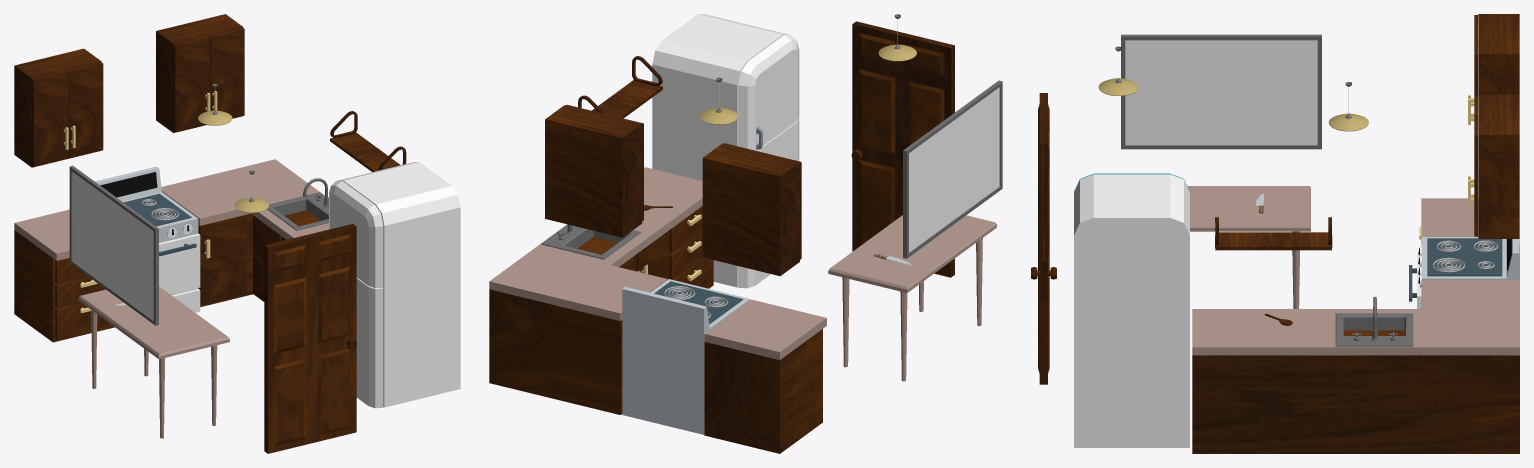
File: NewKitchen.fbx
The picture shows the model from 3 angles, left to right: view 1: azimuth 30°, elevation 25°; view 2: azimuth 150°, elevation 25°; view 3: azimuth 270°, elevation 25°; orthographic projection. The views are drawn at different scales.
Parts seen in each view (by area): view 1: body (×2), 80002FCC41D43B3F54B2518555C85C31, frame (×5), countertop (×2), whiteboard, 81D1700546C724913FC21E9101833FB8, left_door (×2), right_door (×2), oven_side_cabinet, door, polySurface31, polySurface38 (+14 smaller); view 2: frame (×5), body (×2), countertop (×2), 80002FCC41D43B3F54B2518555C85C31, whiteboard, 81D1700546C724913FC21E9101833FB8, polySurface38, tub, AA112 1, range_bottom, sink_right_cabinet, polySurface31 (+7 smaller); view 3: frame (×4), body (×2), whiteboard, countertop (×2), 81D1700546C724913FC21E9101833FB8, 80002FCC41D43B3F54B2518555C85C31, range_bottom, tub, AA112 1, Light, Light2, right_door.
Part boxes in pixels (x1,y1,x2,y2): body (×2): (95,162,460,407); 80002FCC41D43B3F54B2518555C85C31: (264,224,356,453); frame (×5): (14,14,320,342); countertop (×2): (14,159,328,260); whiteboard: (72,172,153,319); 81D1700546C724913FC21E9101833FB8: (78,286,229,438); left_door (×2): (32,36,209,166); right_door (×2): (67,28,244,158); oven_side_cabinet: (199,215,246,305); door: (159,233,200,294); polySurface31: (356,278,368,405); polySurface38: (330,194,368,285); frame (×5): (489,80,1002,453); body (×2): (622,14,789,434); countertop (×2): (489,167,826,359); 80002FCC41D43B3F54B2518555C85C31: (851,21,954,277); whiteboard: (909,87,999,252); 81D1700546C724913FC21E9101833FB8: (828,215,996,381); polySurface38: (755,49,797,150); tub: (541,224,640,259); AA112 1: (592,80,662,118); range_bottom: (654,281,743,324); sink_right_cabinet: (636,231,668,279); polySurface31: (755,122,797,285); frame (×4): (1121,14,1519,453); body (×2): (1074,174,1519,447); whiteboard: (1125,40,1317,145); countertop (×2): (1192,198,1519,355); 81D1700546C724913FC21E9101833FB8: (1187,186,1310,308); 80002FCC41D43B3F54B2518555C85C31: (1031,93,1056,384); range_bottom: (1427,238,1502,276); tub: (1335,313,1413,346); AA112 1: (1215,232,1331,250); Light: (1328,82,1368,131); Light2: (1098,46,1138,95); right_door: (1474,115,1477,236).
Bounding box in the file's own units: 301 × 250 × 375.
